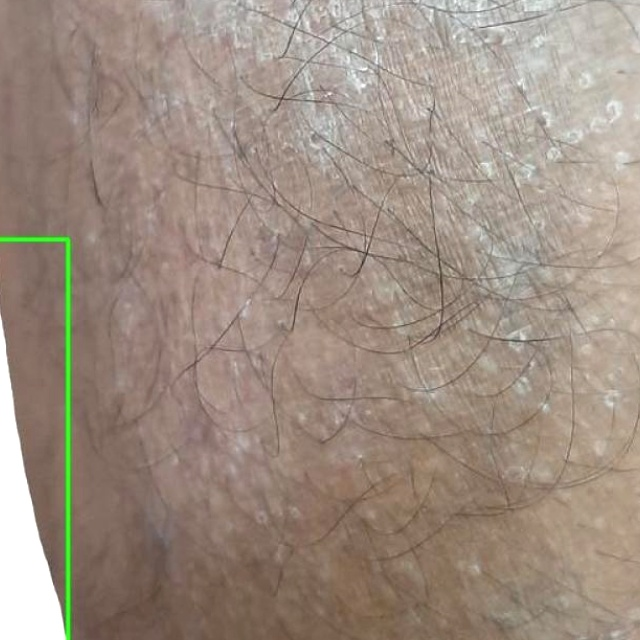Contact Dermatitis: (0, 239, 67, 639)
